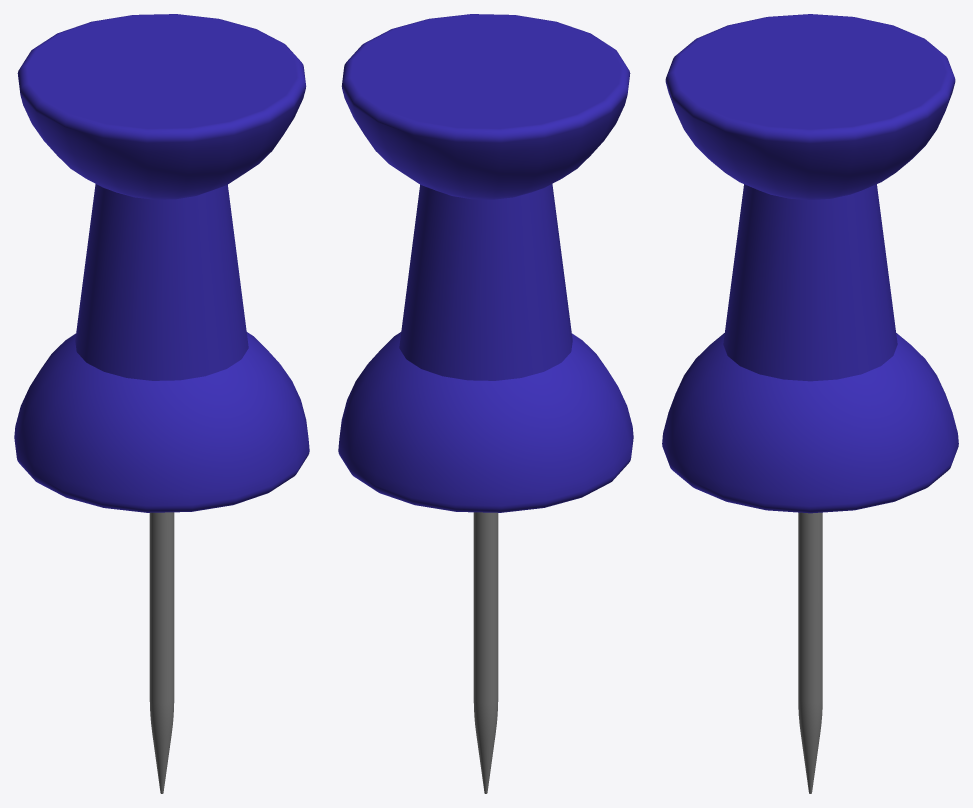
3 renders of one model, left to right at view 1: azimuth 30°, elevation 25°; view 2: azimuth 150°, elevation 25°; view 3: azimuth 270°, elevation 25°, orthographic.
Parts seen in each view (by area): view 1: polySurface2, polySurface1; view 2: polySurface2, polySurface1; view 3: polySurface2, polySurface1.
Part boxes in pixels (x1=…): polySurface2: x1=14, y1=14, x2=309, y2=512; polySurface1: x1=149, y1=512, x2=174, y2=793; polySurface2: x1=338, y1=14, x2=633, y2=512; polySurface1: x1=473, y1=512, x2=498, y2=793; polySurface2: x1=662, y1=14, x2=958, y2=513; polySurface1: x1=798, y1=512, x2=822, y2=793.
Bounding box in the file's own units: 1.21 × 3.23 × 1.21.
